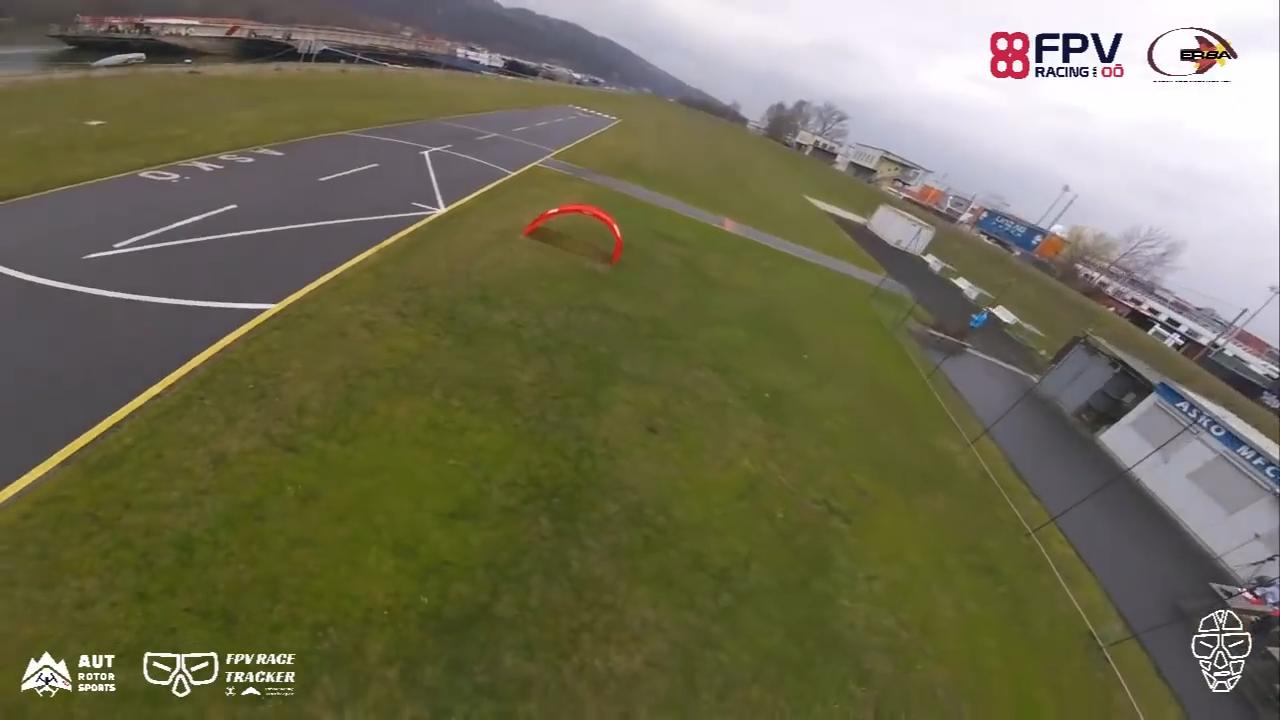gate: (519, 201, 622, 267)
